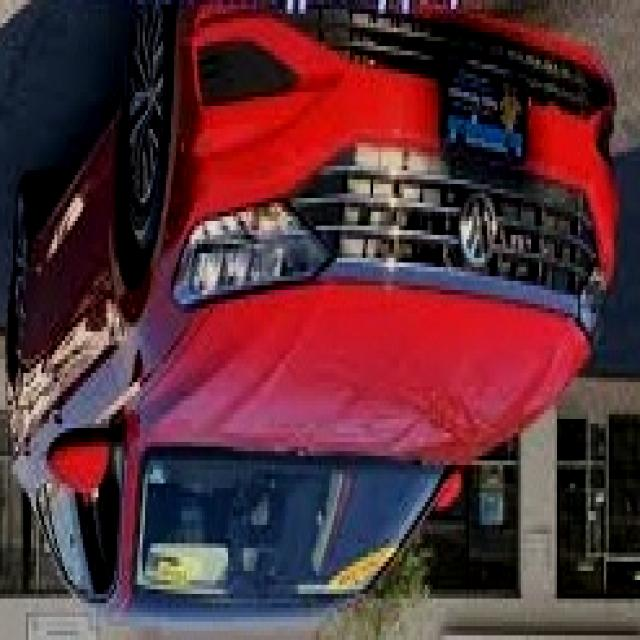red: (0, 0, 617, 640)
